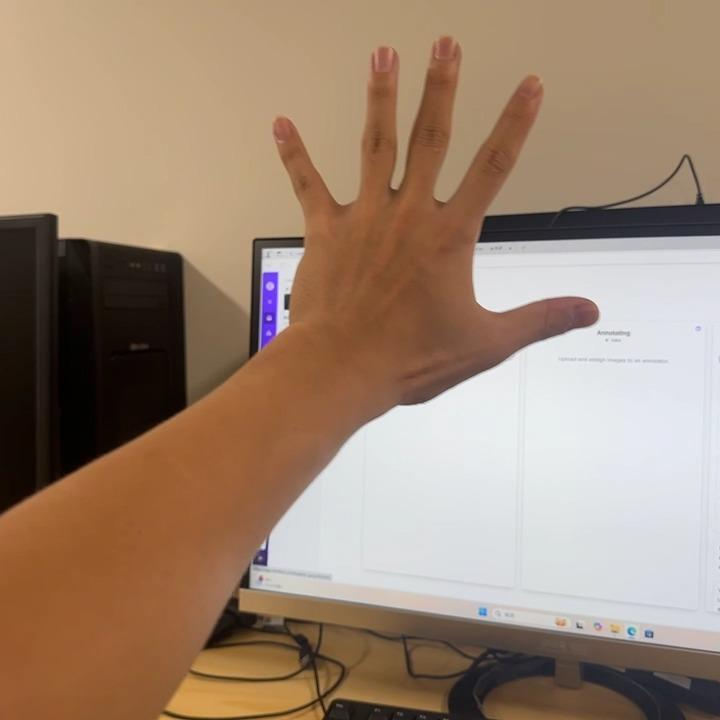without_gloves: (204, 0, 643, 415)
